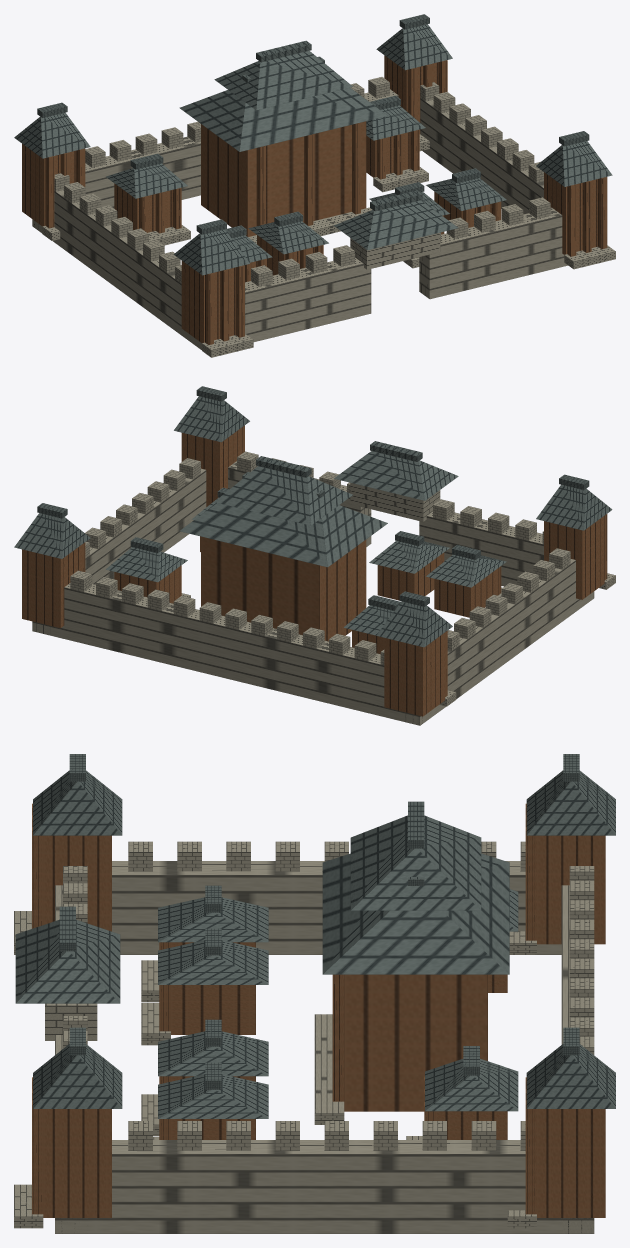
The model's file is city0-lod0.glb.
The picture shows the model from 3 angles, top to bottom: view 1: azimuth 30°, elevation 25°; view 2: azimuth 150°, elevation 25°; view 3: azimuth 270°, elevation 25°; orthographic projection. The views are drawn at different scales.
Size of the model in its own units: 2.24 by 0.9 by 1.84.
1 material, 1 textured.
